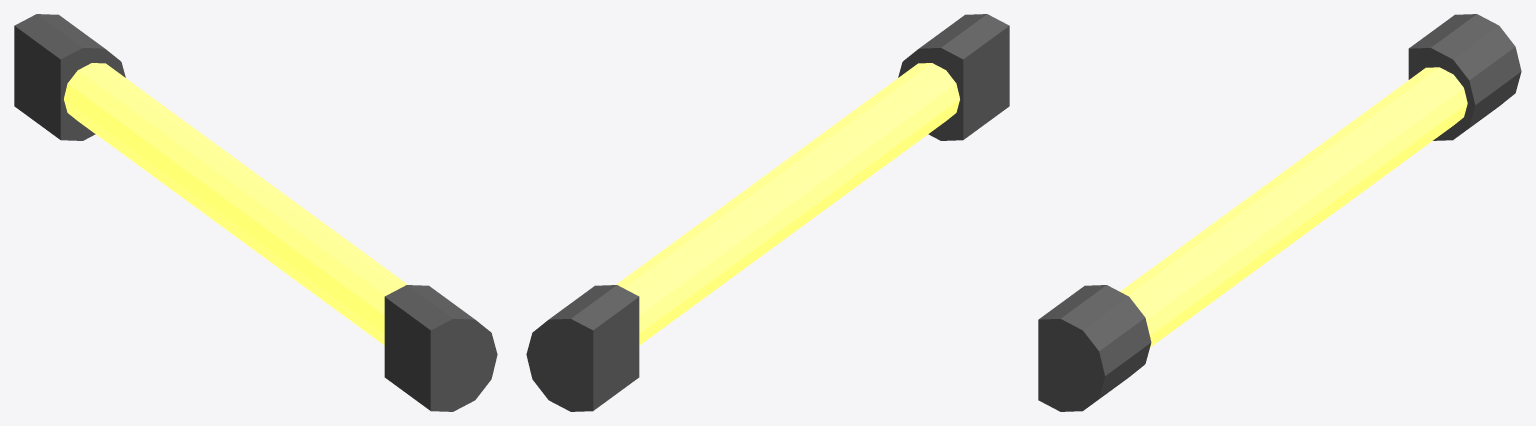
File: lamp.glb
3 renders of one model, left to right at view 1: azimuth 30°, elevation 25°; view 2: azimuth 150°, elevation 25°; view 3: azimuth 330°, elevation 25°, orthographic.
Visible parts, largest first — view 1: lamp_mesh; view 2: lamp_mesh; view 3: lamp_mesh.
Boxes of the visible parts, x1=… form: lamp_mesh: x1=14, y1=14, x2=497, y2=411; lamp_mesh: x1=526, y1=14, x2=1009, y2=411; lamp_mesh: x1=1038, y1=14, x2=1521, y2=411.
Size of what is drawn, in the model's own units: 0.3125 by 0.4166 by 3.38.
